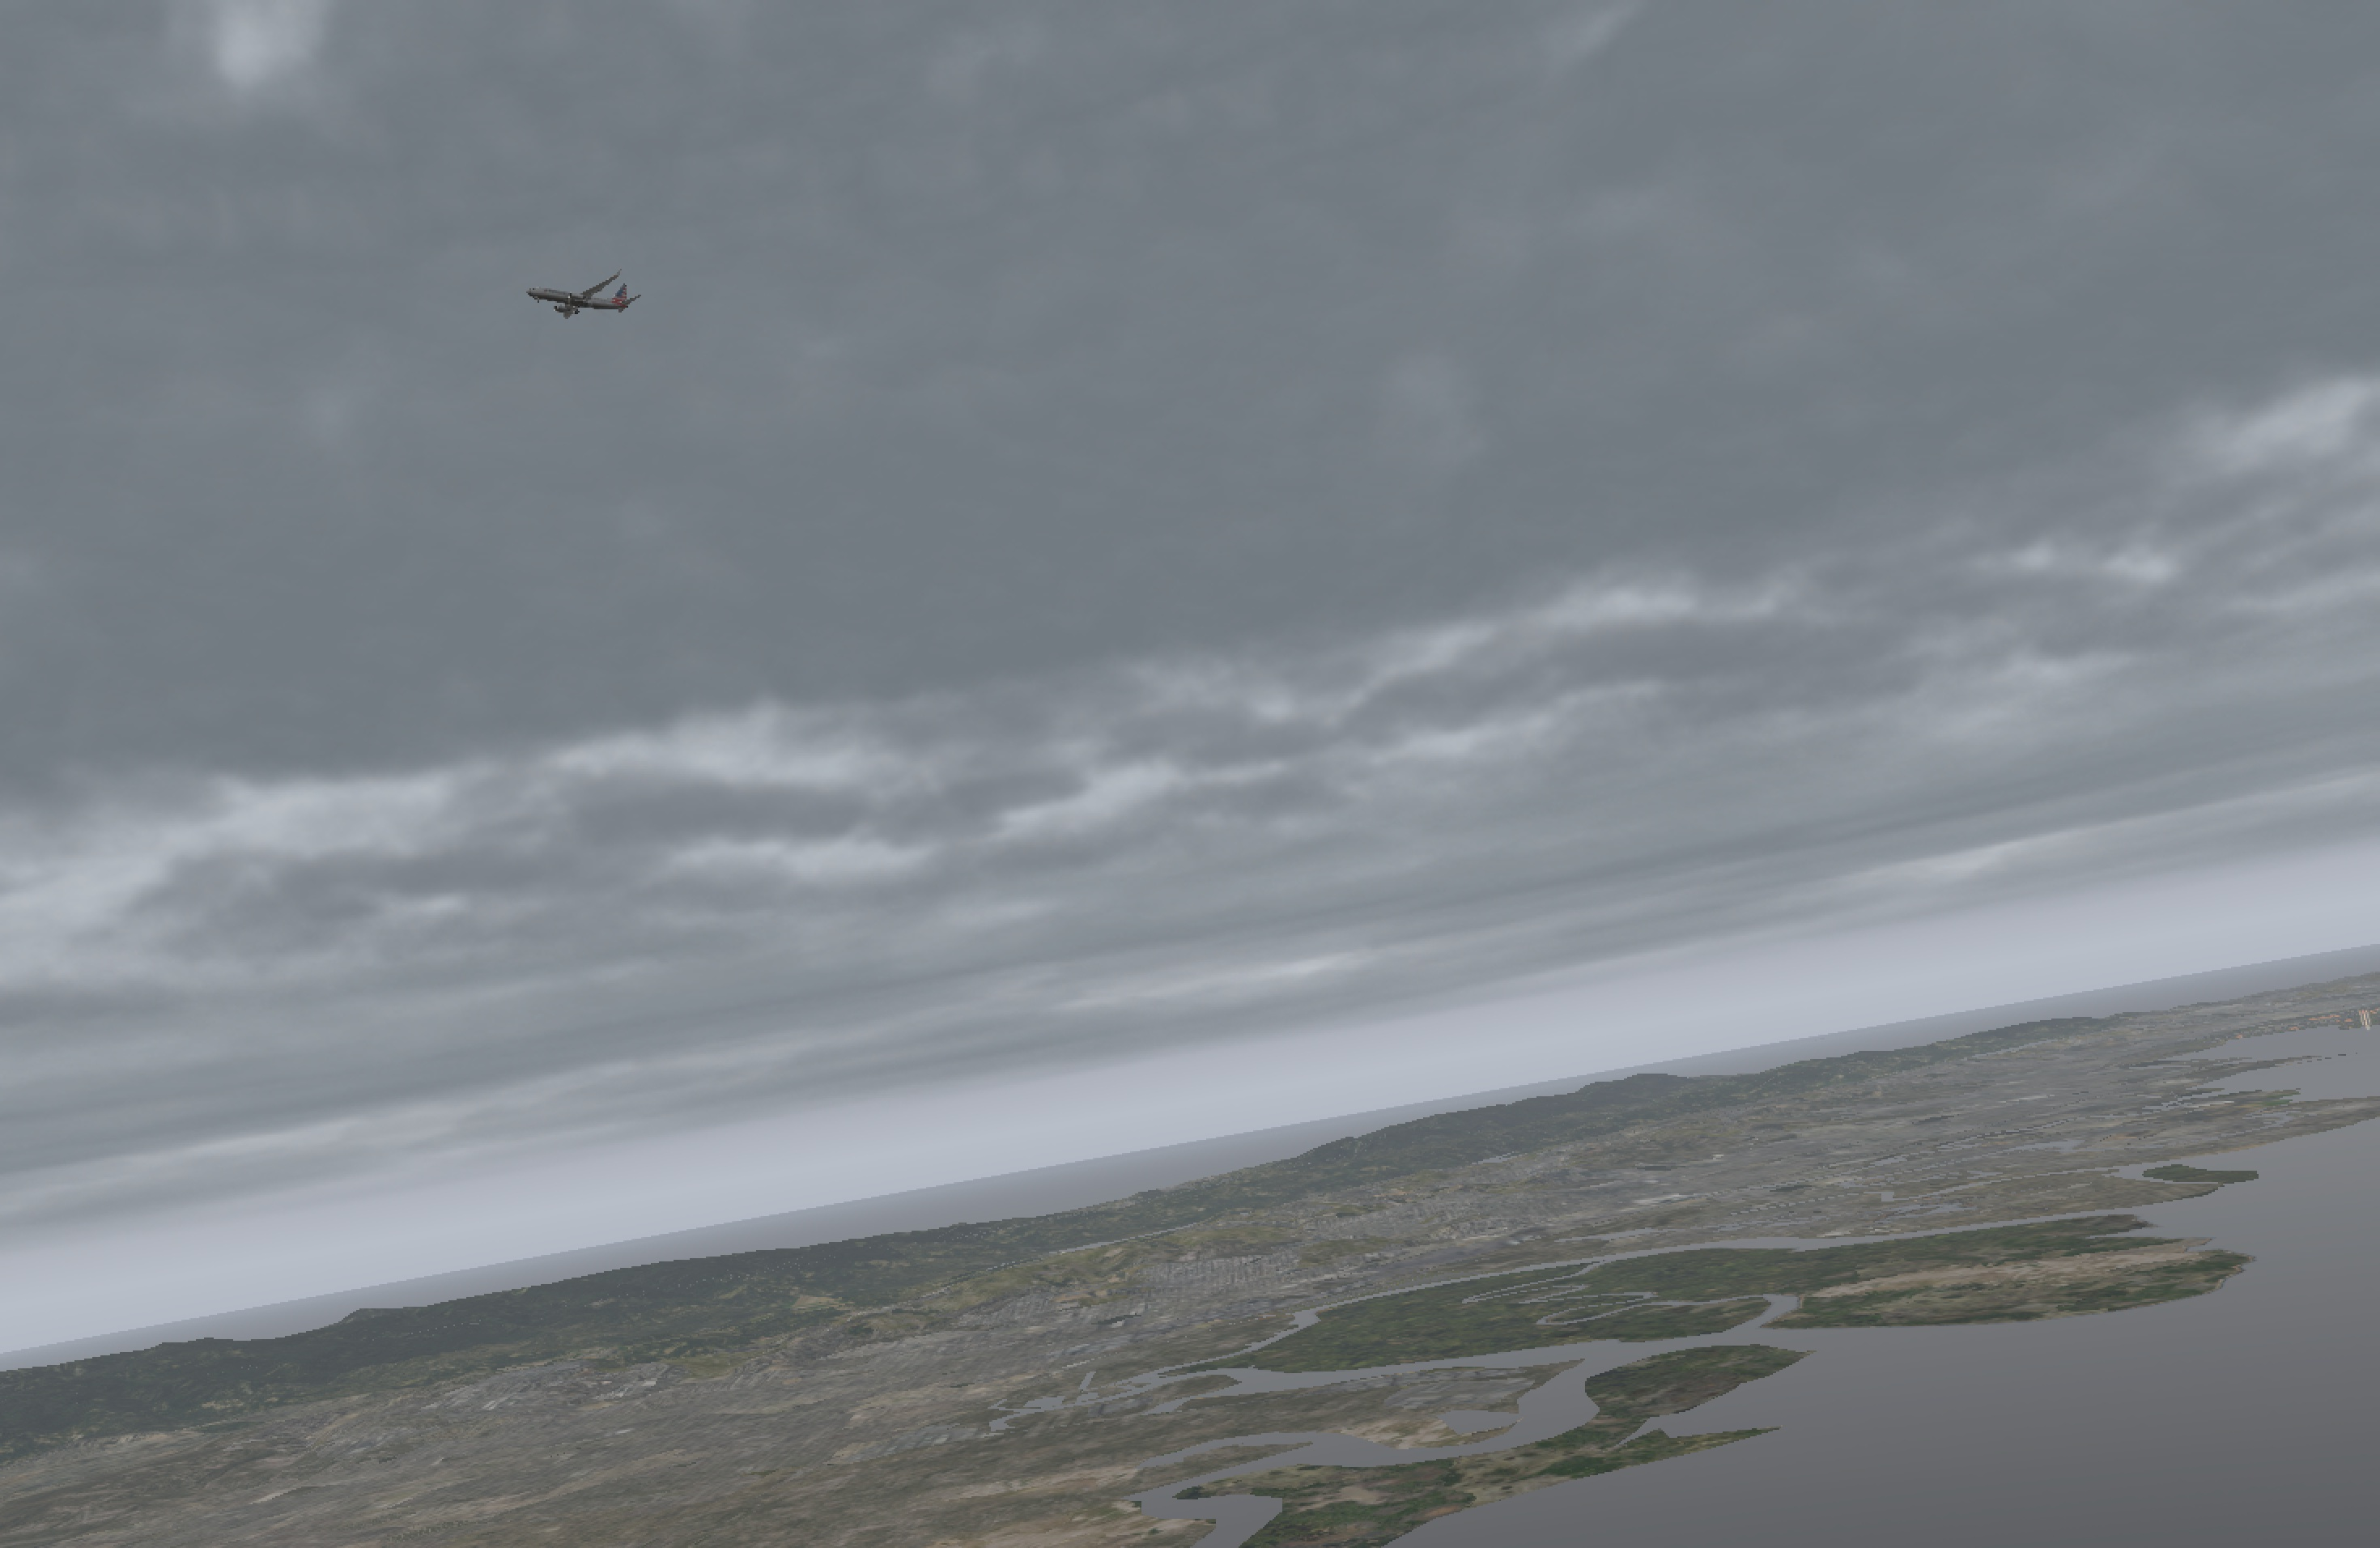aircraft: (520, 281, 631, 321)
